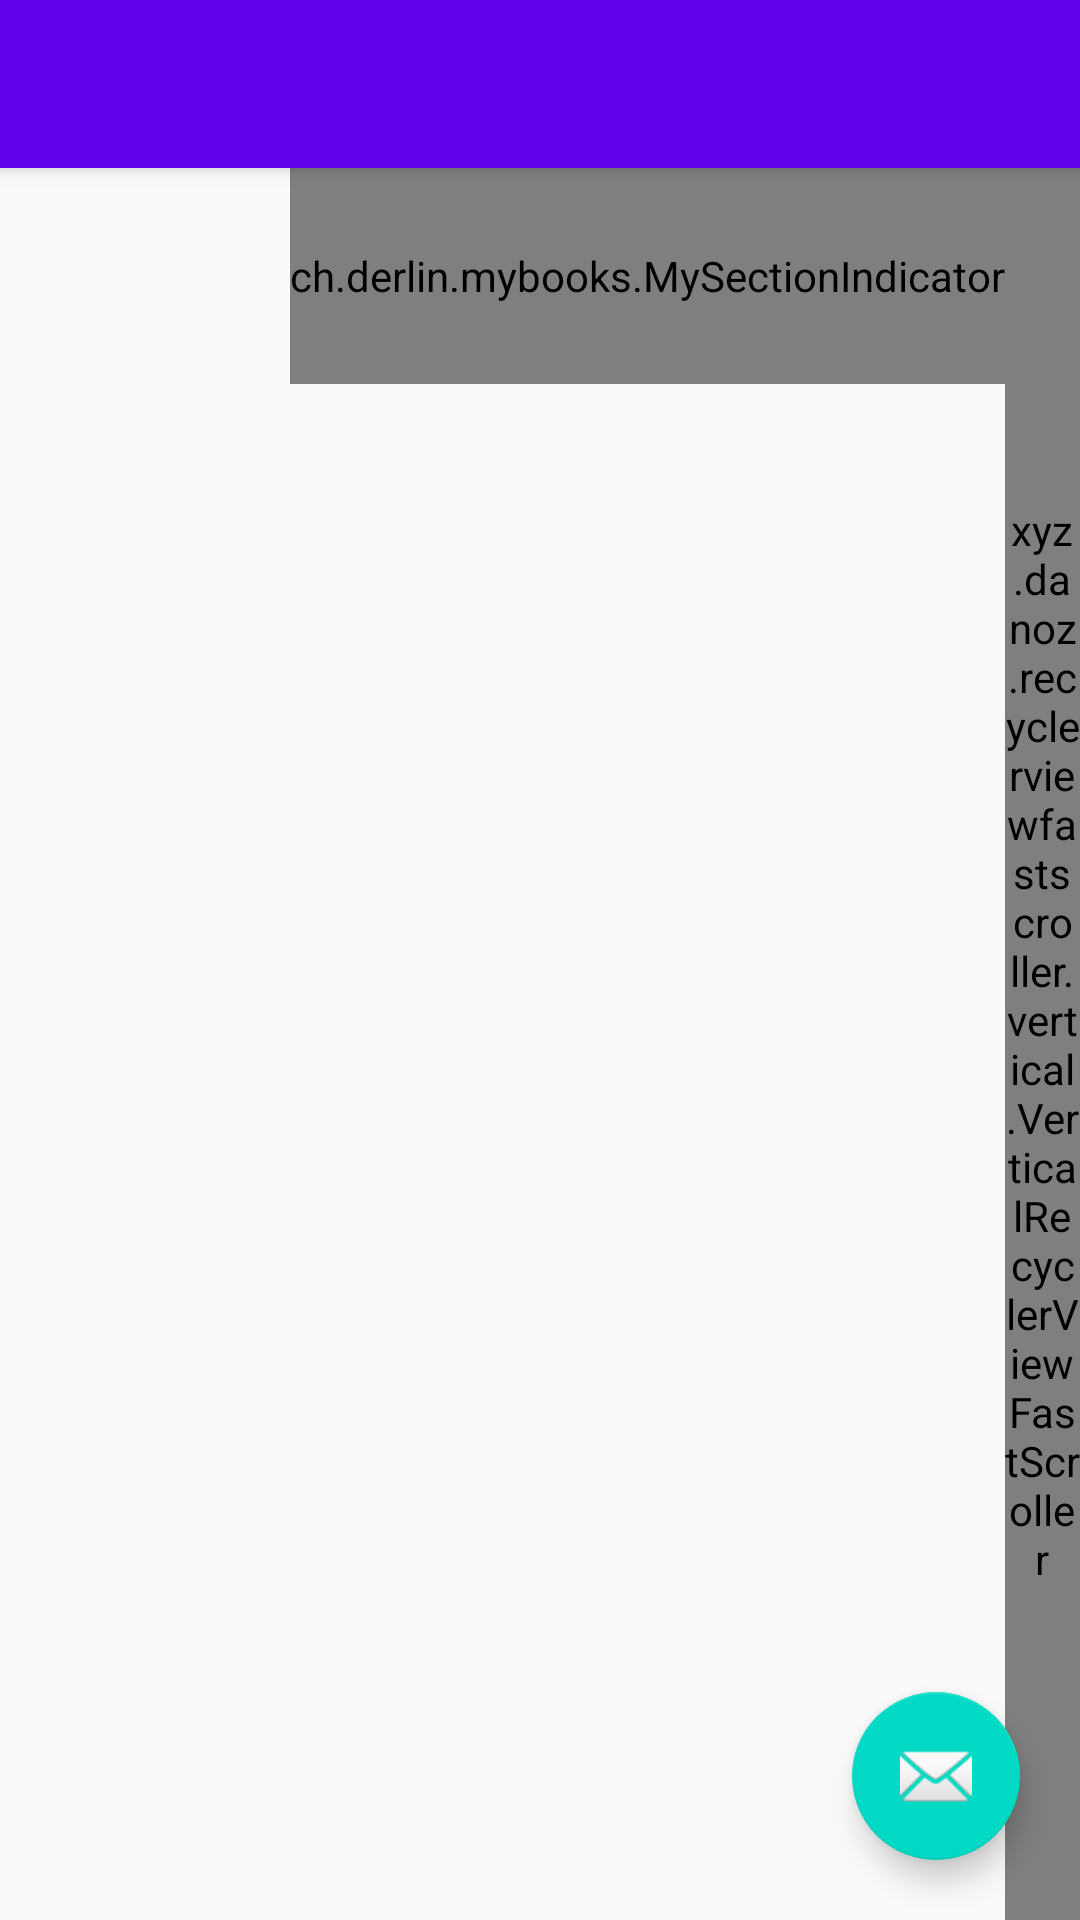

Point at icon controls on the screen. Image size 1080×1920, points as (x=x, y=y).
email: (x=936, y=1776)
